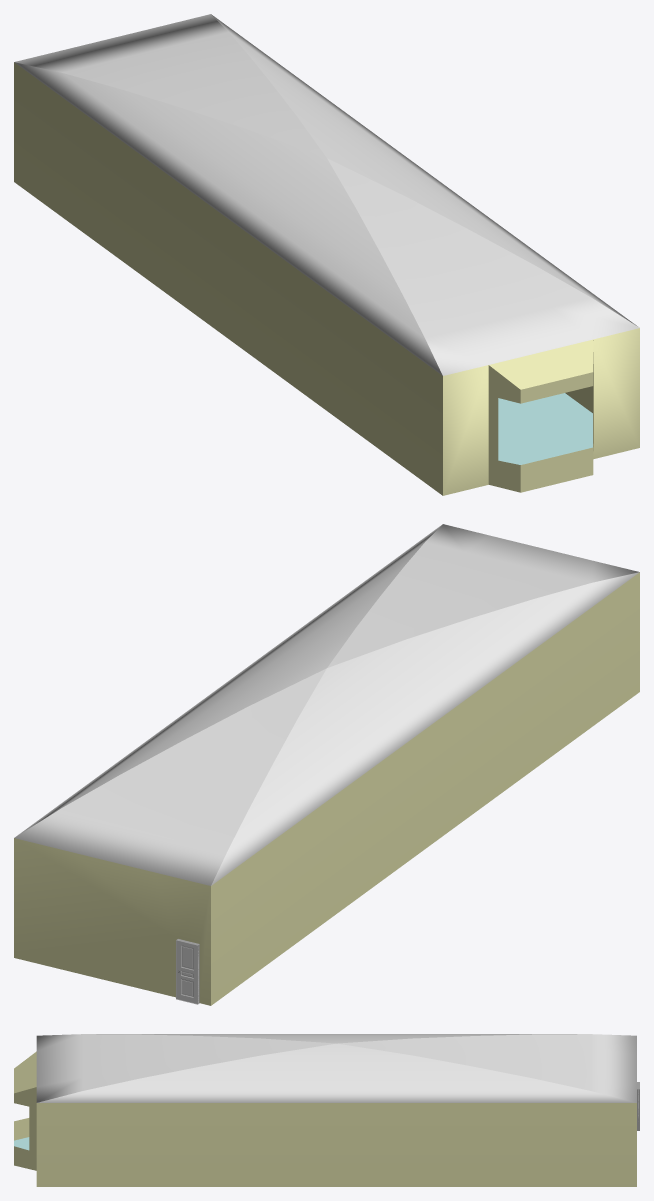
The model's file is KitchenPart1.fbx.
The picture shows the model from 3 angles, top to bottom: view 1: azimuth 30°, elevation 25°; view 2: azimuth 150°, elevation 25°; view 3: azimuth 270°, elevation 25°; orthographic projection. The views are drawn at different scales.
Visible parts, largest first — view 1: polySurface453; view 2: polySurface453, pCube64; view 3: polySurface453.
Part boxes in pixels (x1,y1,x2,y2): polySurface453: (14,14,639,495); polySurface453: (14,524,639,1005); pCube64: (176,940,198,1003); polySurface453: (14,1034,639,1186).
Bounding box in the file's own units: 6.91 × 5.25 × 27.16.
